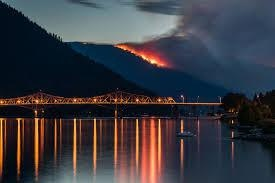fire: (114, 42, 172, 66)
